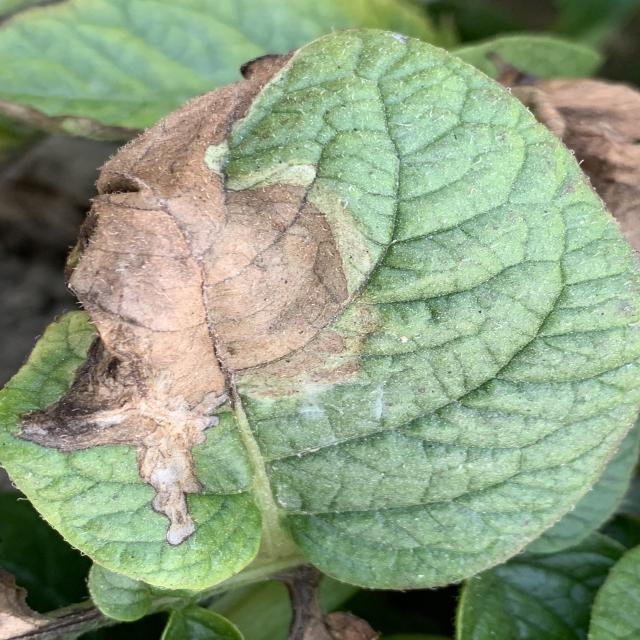lateblight: (20, 54, 348, 545), (238, 296, 418, 392)
